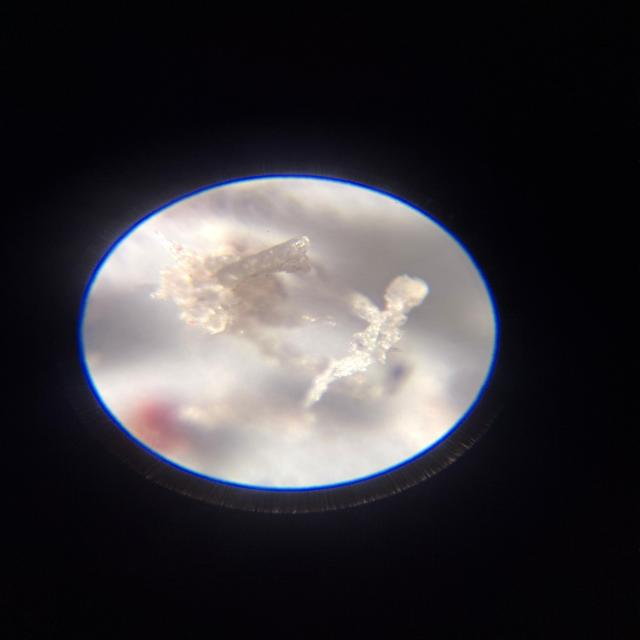microplastic_type_1: (151, 233, 429, 426)
